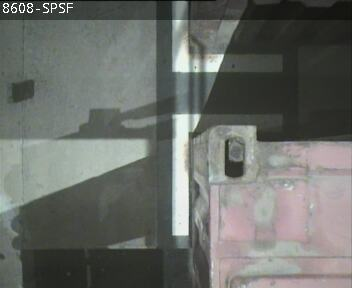groundmarker_1: (171, 1, 281, 236)
